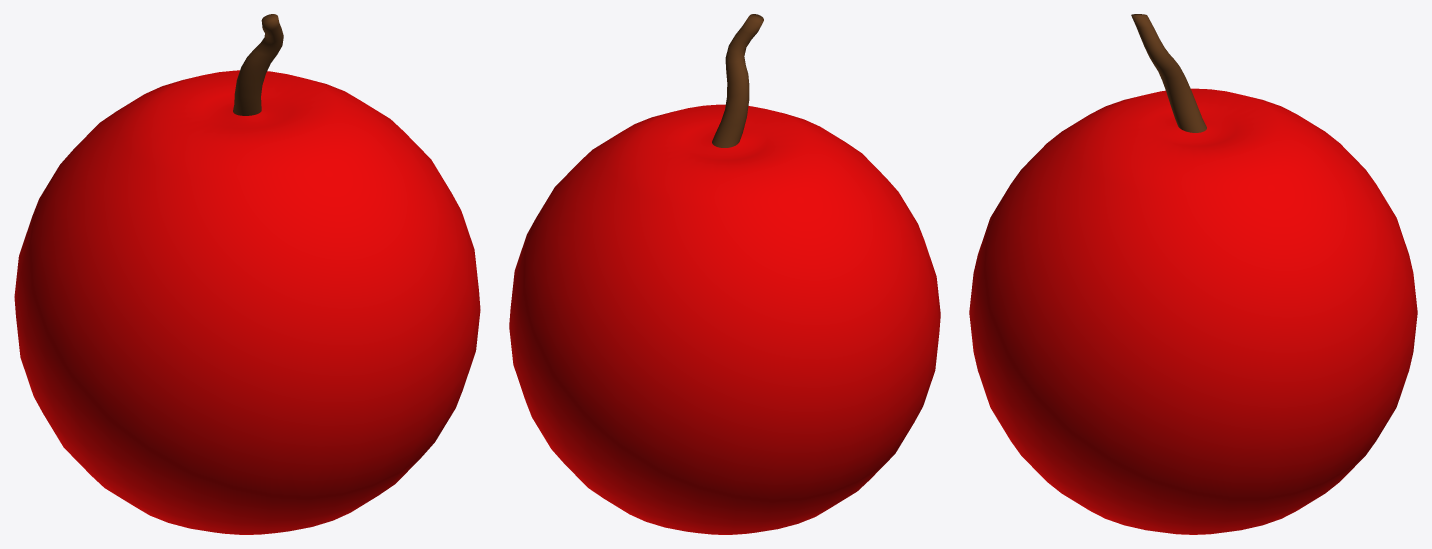
The model's file is Manzana_roja.fbx.
3 views of the same model, side by side, from view 1: azimuth 30°, elevation 25°; view 2: azimuth 150°, elevation 25°; view 3: azimuth 270°, elevation 25° (orthographic). The views are drawn at different scales.
Visible parts, largest first — view 1: Manzana.002; view 2: Manzana.002; view 3: Manzana.002.
Boxes of the visible parts, x1,y1,x2,y2 form: Manzana.002: (14, 14, 480, 534); Manzana.002: (509, 14, 940, 534); Manzana.002: (969, 14, 1417, 534).
Bounding box in the file's own units: 50.64 × 60.13 × 50.64.
